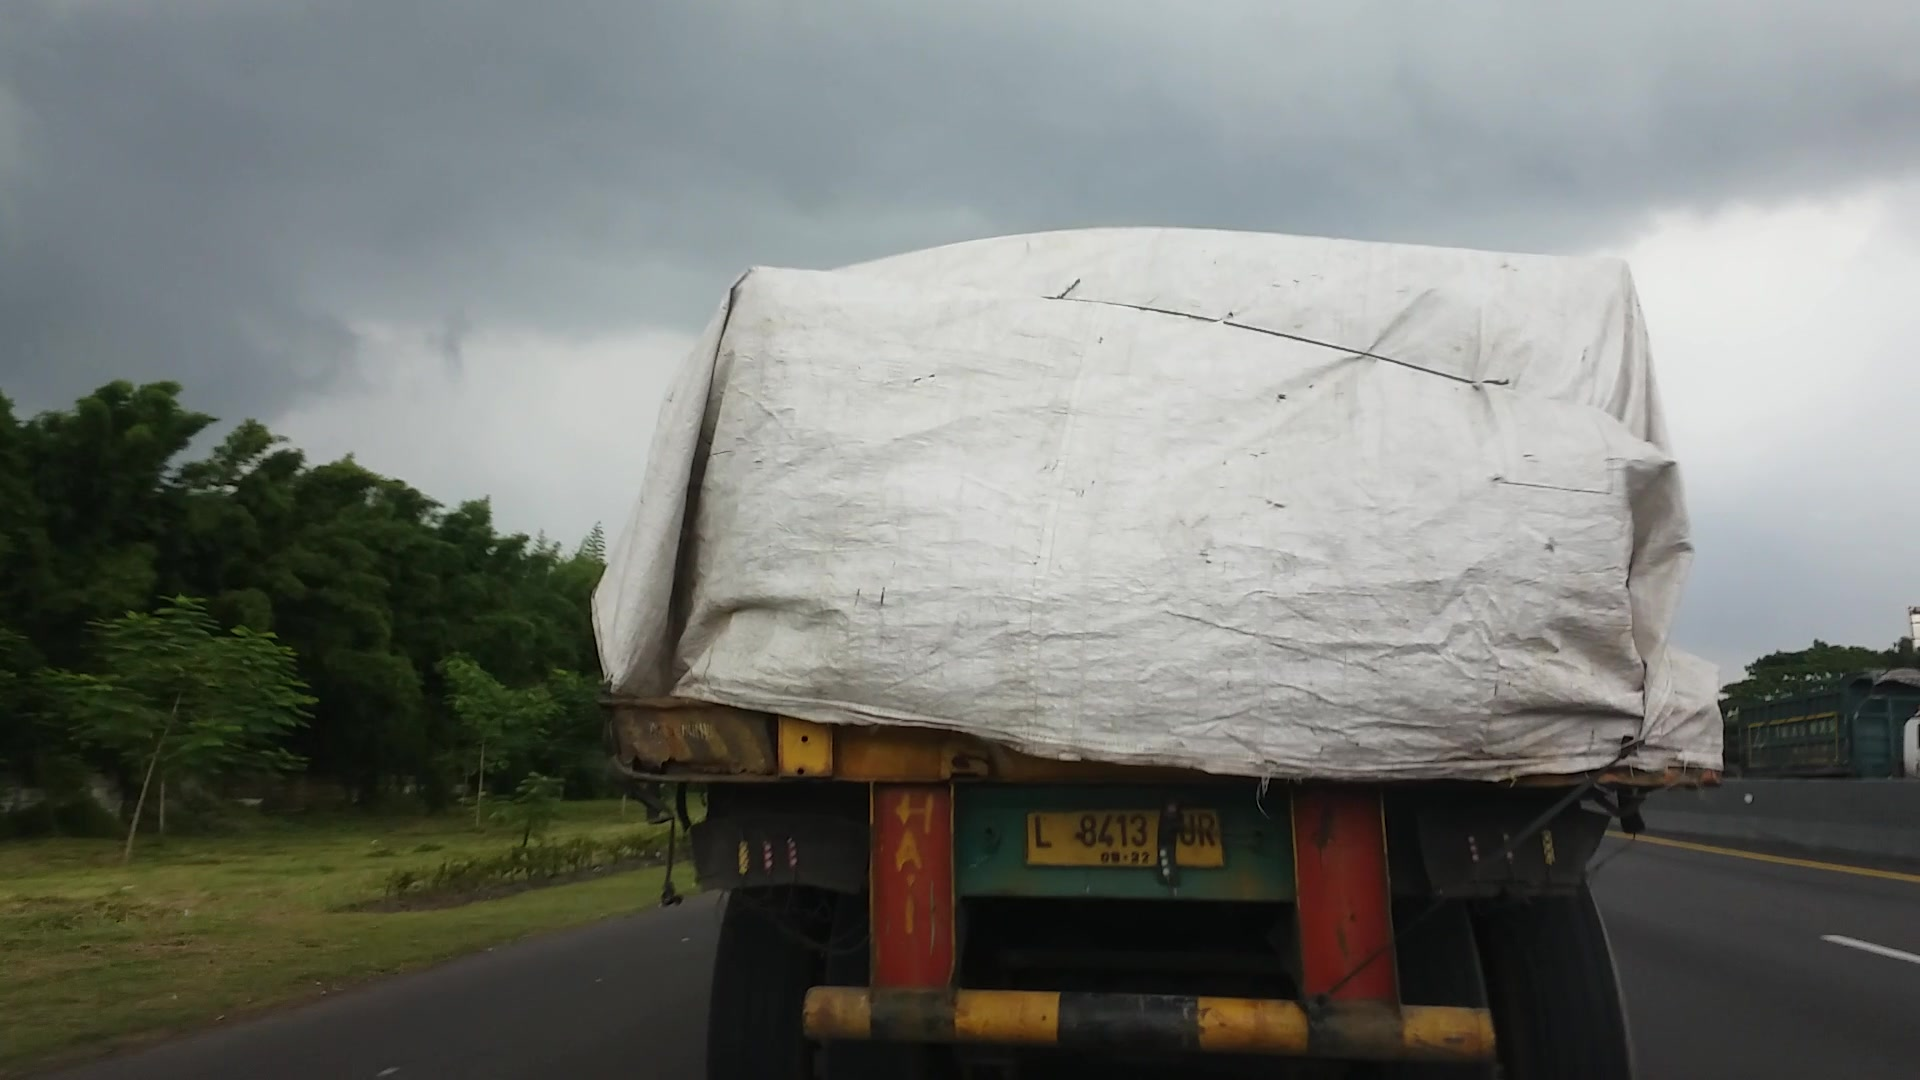plate_positive: (1025, 806, 1226, 866)
